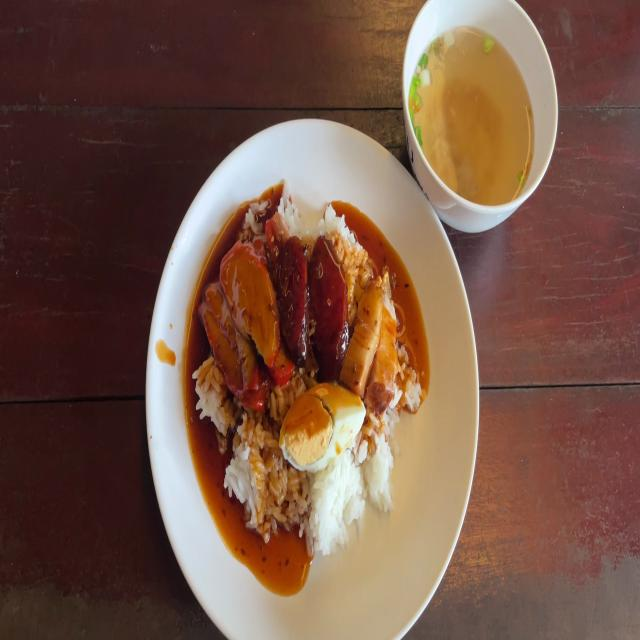01boiled_egg: (281, 380, 364, 470)
01chainese_sausage: (284, 233, 345, 372), (312, 245, 346, 372), (282, 236, 310, 346)
01crispy_pork: (350, 272, 398, 400)
01red_pork: (196, 243, 282, 405)
01red_pork_and_crispy_pork: (195, 186, 427, 558)
01rice: (297, 466, 363, 558), (235, 420, 286, 534), (364, 422, 399, 510)
